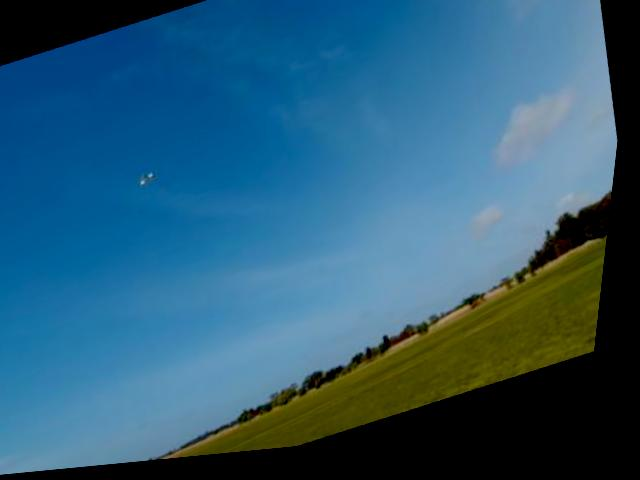uav: (136, 167, 166, 194)
